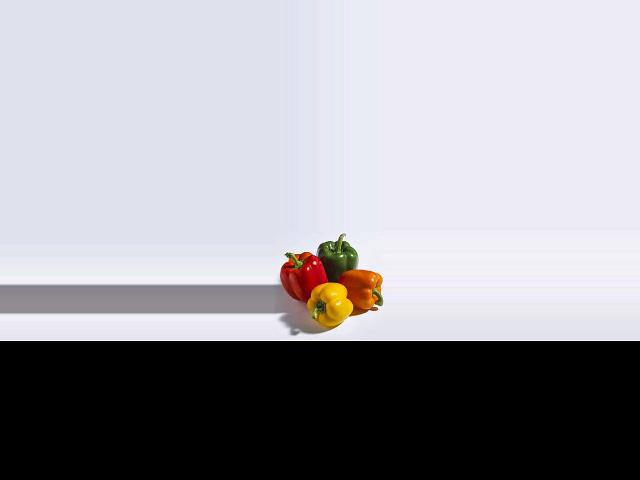bell_pepper: (278, 247, 327, 302)
